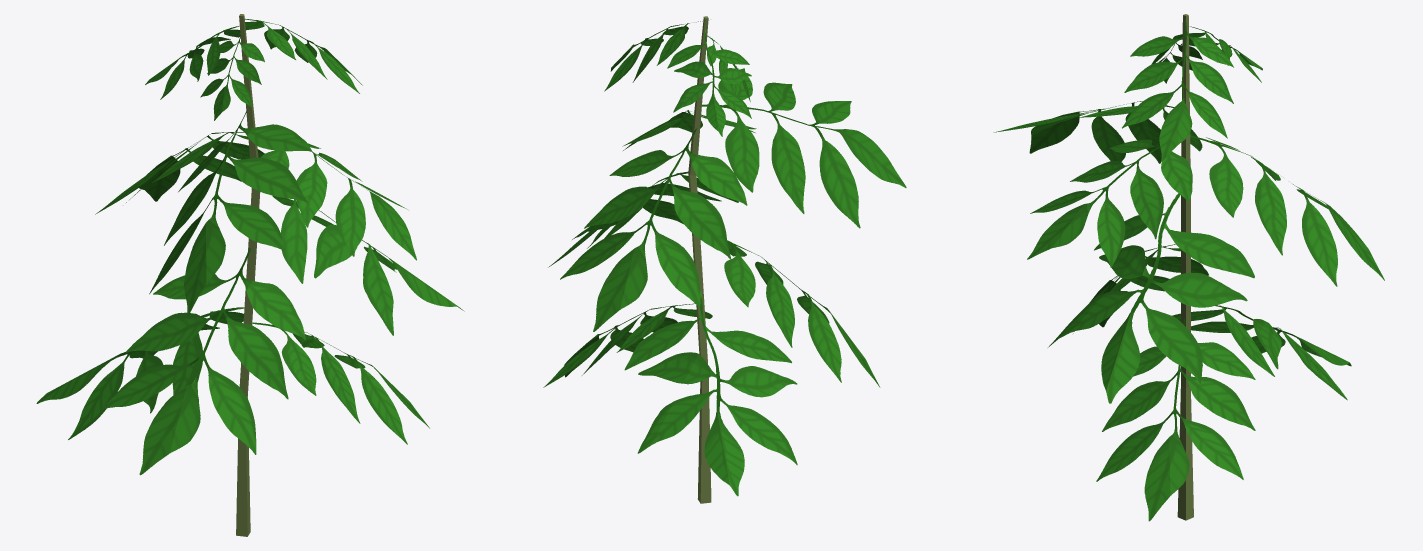
File: sm_env_Little_Tree.fbx
3 views of the same model, side by side, from view 1: azimuth 30°, elevation 25°; view 2: azimuth 150°, elevation 25°; view 3: azimuth 270°, elevation 25° (orthographic). The views are drawn at different scales.
Visible parts, largest first — view 1: Little_tree; view 2: Little_tree; view 3: Little_tree.
Boxes of the visible parts, bbox=[...] form: Little_tree: bbox=[36, 14, 464, 536]; Little_tree: bbox=[543, 16, 906, 503]; Little_tree: bbox=[993, 14, 1384, 521].
Bounding box in the file's own units: 0.5683 × 0.7197 × 0.6107.
